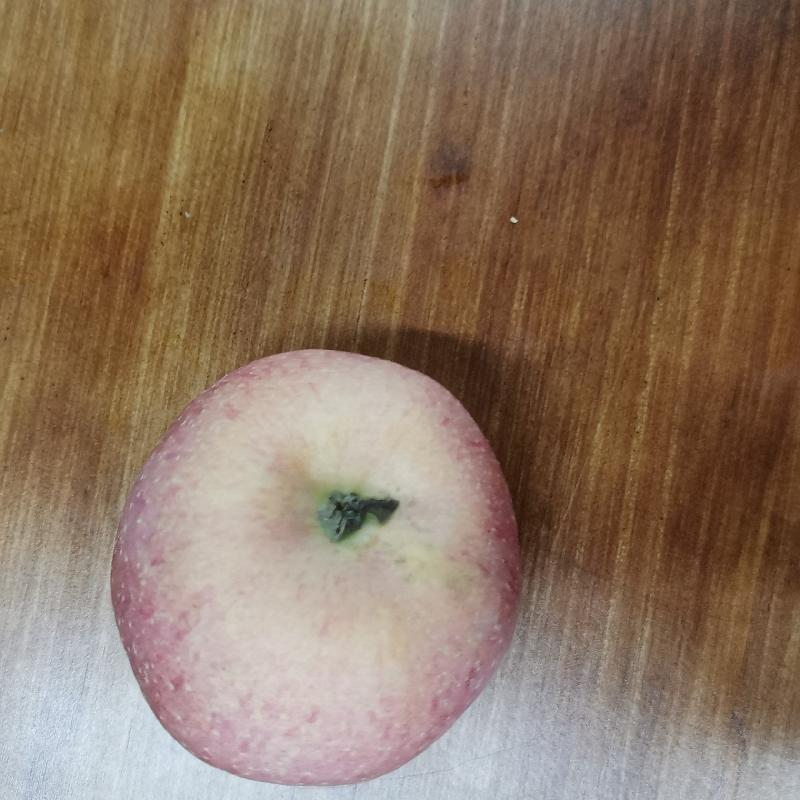apples: (101, 343, 545, 800)
